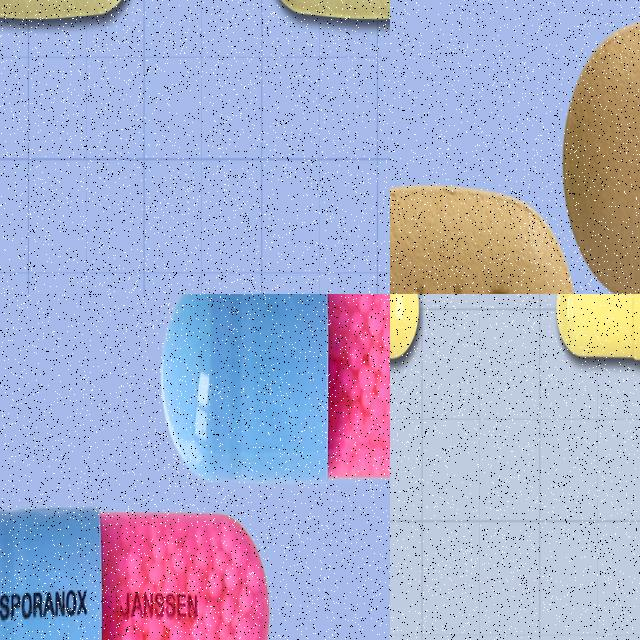Exviera: (563, 14, 640, 294), (390, 183, 578, 294)
Suprax Cap- Dong-A: (159, 294, 390, 480), (0, 508, 272, 640)
Tenofobell Tab: (556, 294, 640, 361)
